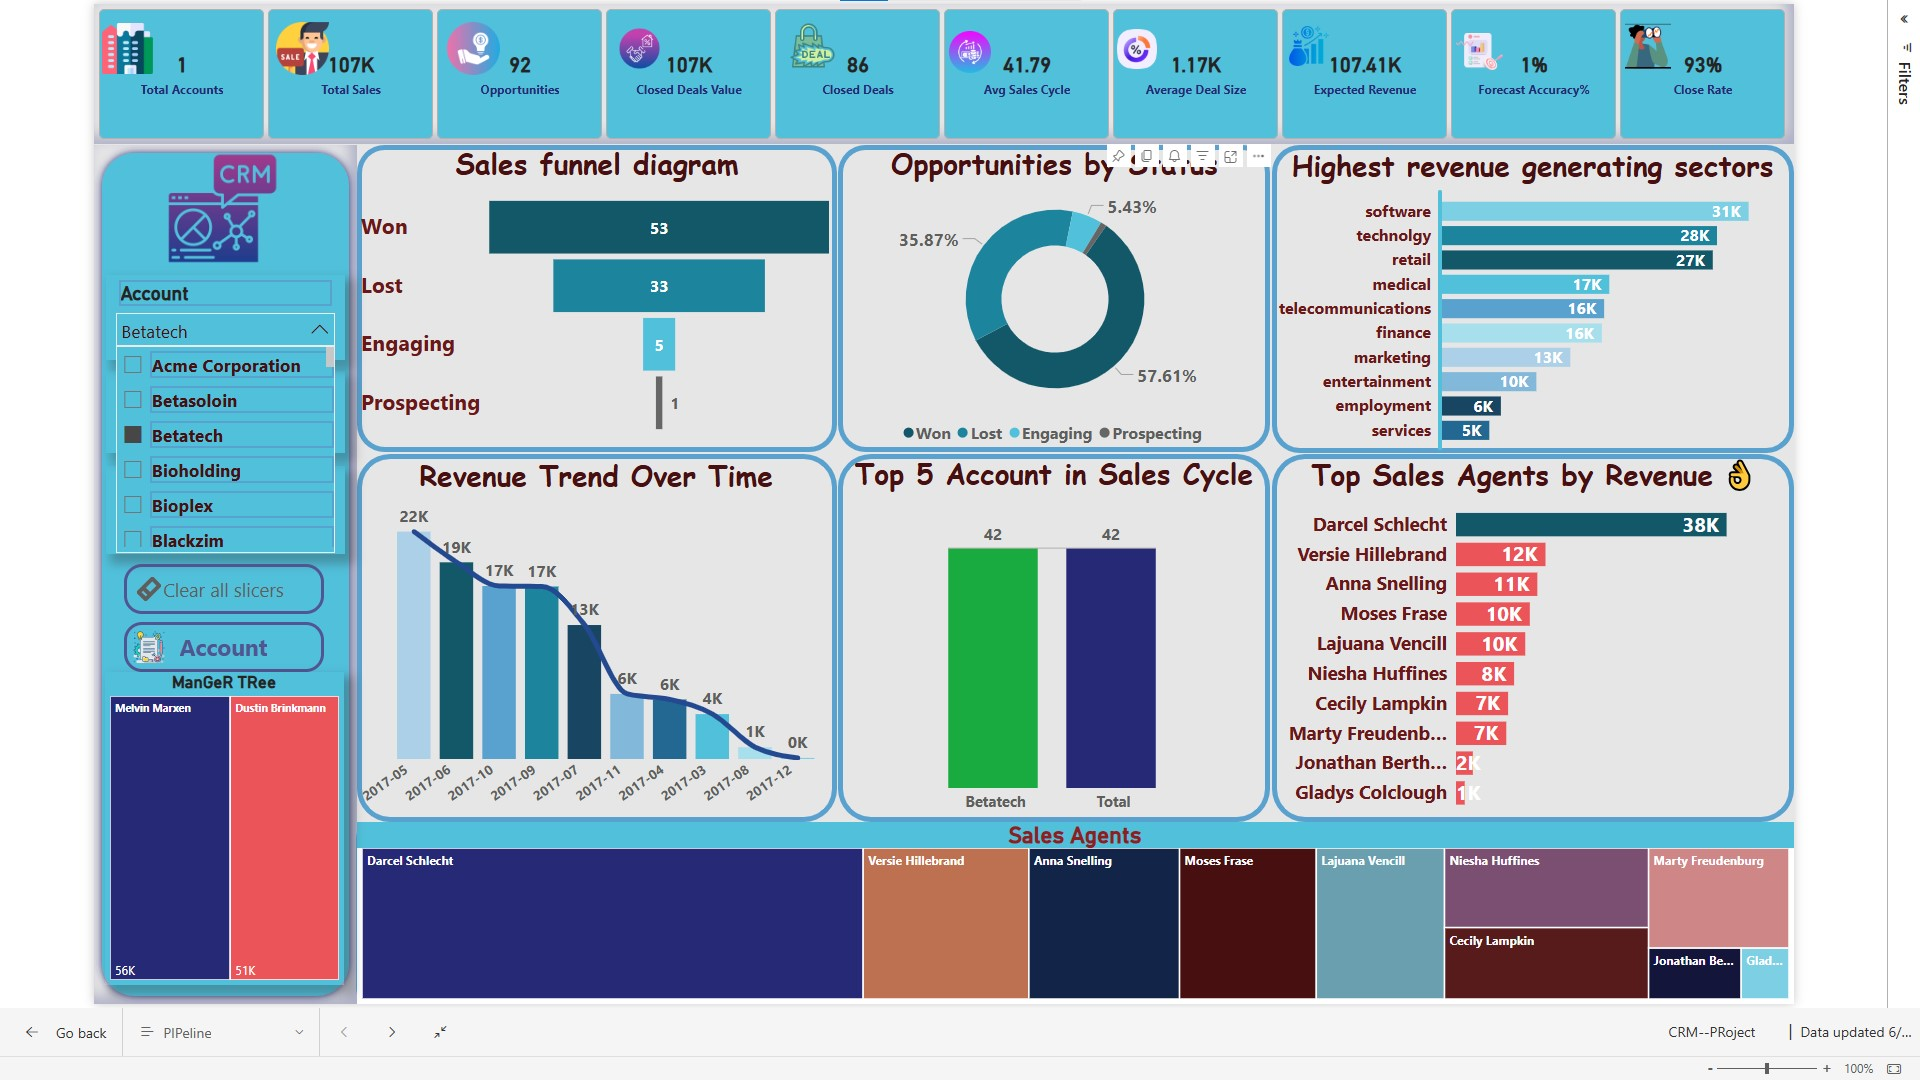

The page's visual inventory and layout, read from the dashboard file:
{"tool":"powerbi","page":{"name":"PIPeline","canvas":[1700,1000],"ordinal":0},"visuals":[{"type":"shape","box":[0,141.5,263.4,858.5],"z":0},{"type":"shape","box":[744.3,140.9,431.6,306.8],"z":1000},{"type":"shape","box":[263.4,450,479.3,368.3],"z":2000},{"type":"shape","box":[262.8,140.9,480.1,306.8],"z":3000},{"type":"shape","box":[743.9,450,432,368.3],"z":4000},{"type":"shape","box":[1178,141.5,522,307.3],"z":5000},{"type":"shape","box":[1178,450,522,368.3],"z":6000},{"type":"shape","box":[264.2,819.2,1435.8,181.2],"z":7000},{"type":"cardVisual","fields":{"Data":["Calendar.Total Accounts","Calendar.Total Sales","Calendar.Total Opportunities","Calendar.Closed Deals Value","Calendar.Closed Deals","Calendar.Avg Sales Cycle","Calendar.Average Deal Size","Calendar.Expected Revenue","Calendar.Forecast Accuracy %","Calendar.Close Rate"]},"box":[0,0,1700,140.2],"z":8000},{"type":"funnel","title":"Sales funnel diagram","fields":{"Category":["sales_pipeline.Deal Stage"],"Y":["CountNonNull(sales_pipeline.Opportunity Id)"]},"box":[262.3,138.9,482.4,309.1],"z":9000},{"type":"barChart","title":"Highest revenue generating sectors","fields":{"Y":["Subsidiary Of.Total Revenue by Sector"],"Category":["Subsidiary Of.Sector"]},"box":[1178,141.5,522,309.8],"z":10000},{"type":"donutChart","title":"Opportunities by Status","fields":{"Category":["sales_pipeline.Deal Stage"],"Y":["CountNonNull(sales_pipeline.Opportunity Id)"]},"box":[743.9,139,434.1,309.8],"z":11000},{"type":"clusteredBarChart","title":"Top Sales Agents by Revenue 👌 ","fields":{"Category":["sales_pipeline.Sales Agent"],"Y":["Sum(sales_pipeline.Close Value)"]},"box":[1178,450,522,368.3],"z":12000},{"type":"lineStackedColumnComboChart","title":"Revenue Trend Over Time","fields":{"Category":["sales_pipeline.Close-Month"],"Y":["Calendar.Closed Deals Value"],"Y2":["Calendar.Total Sales"]},"box":[262.3,451.1,480.8,366.9],"z":13000},{"type":"waterfallChart","title":"Top 5 Account in Sales Cycle","fields":{"Category":["sales_pipeline.Account"],"Y":["Calendar.Avg Sales Cycle"]},"box":[742.7,448.8,435.4,369.5],"z":14000},{"type":"shape","box":[262.3,818,1437.7,182.6],"z":15000},{"type":"treemap","title":"Sales Agents","fields":{"Group":["sales_pipeline.Sales Agent"],"Values":["Sum(sales_pipeline.Close Value)"]},"box":[262.8,817.7,1437.2,182],"z":16000},{"type":"slicer","fields":{"Values":["sales_pipeline.Account"]},"box":[12.2,271.1,239.3,85.1],"z":17000},{"type":"slicer","fields":{"Values":["sales_pipeline.Product"]},"box":[12.2,366.6,239.3,82.2],"z":18000},{"type":"slicer","fields":{"Values":["Subsidiary Of.Office Location"]},"box":[12.2,462,239.3,88.1],"z":19000},{"type":"actionButton","box":[30.5,559.5,200,50],"z":21000},{"type":"actionButton","box":[30.5,618.1,200,50],"z":22000},{"type":"treemap","title":"ManGeR TRee","fields":{"Group":["sales_teams.Manager"],"Values":["Sum(sales_pipeline.Close Value)"]},"box":[10.7,668,239.6,313.2],"z":23000},{"type":"image","box":[10.4,138,240.3,130.5],"z":23001},{"type":"image","box":[3,3,60.8,81.6],"z":23002},{"type":"image","box":[172.1,13.4,72.7,62.3],"z":23003},{"type":"image","box":[344.2,13.4,71.2,62.3],"z":23004},{"type":"image","box":[510.3,19.3,71.2,50.4],"z":23005},{"type":"image","box":[676.4,13.4,86,56.4],"z":23006},{"type":"image","box":[850,19.3,51.9,56.4],"z":23007},{"type":"image","box":[1017.6,13.4,50.4,62.3],"z":23008},{"type":"image","box":[1189.7,13.4,50.4,56.4],"z":23009},{"type":"image","box":[1357.3,19.3,56.4,56.4],"z":23010},{"type":"image","box":[1525.8,12.8,56.4,57.6],"z":23011}]}

Visuals, with their boxes on the page's 1700x1000 design canvas (x1, y1, x2, y2). These are canvas units, not pixel positions in the 1920x1080 screenshot, which may show the page scaled, cropped or inside an application window:
shape: box(0, 142, 263, 1000)
shape: box(744, 141, 1176, 448)
shape: box(263, 450, 743, 818)
shape: box(263, 141, 743, 448)
shape: box(744, 450, 1176, 818)
shape: box(1178, 142, 1700, 449)
shape: box(1178, 450, 1700, 818)
shape: box(264, 819, 1700, 1000)
cardVisual - Calendar.Total Accounts x Calendar.Total Sales: box(0, 0, 1700, 140)
"Sales funnel diagram" funnel: box(262, 139, 745, 448)
"Highest revenue generating sectors" barChart: box(1178, 142, 1700, 451)
"Opportunities by Status" donutChart: box(744, 139, 1178, 449)
"Top Sales Agents by Revenue 👌 " clusteredBarChart: box(1178, 450, 1700, 818)
"Revenue Trend Over Time" lineStackedColumnComboChart: box(262, 451, 743, 818)
"Top 5 Account in Sales Cycle" waterfallChart: box(743, 449, 1178, 818)
shape: box(262, 818, 1700, 1001)
"Sales Agents" treemap: box(263, 818, 1700, 1000)
slicer - sales_pipeline.Account: box(12, 271, 252, 356)
slicer - sales_pipeline.Product: box(12, 367, 252, 449)
slicer - Subsidiary Of.Office Location: box(12, 462, 252, 550)
actionButton: box(30, 560, 230, 610)
actionButton: box(30, 618, 230, 668)
"ManGeR TRee" treemap: box(11, 668, 250, 981)
image: box(10, 138, 251, 268)
image: box(3, 3, 64, 85)
image: box(172, 13, 245, 76)
image: box(344, 13, 415, 76)
image: box(510, 19, 582, 70)
image: box(676, 13, 762, 70)
image: box(850, 19, 902, 76)
image: box(1018, 13, 1068, 76)
image: box(1190, 13, 1240, 70)
image: box(1357, 19, 1414, 76)
image: box(1526, 13, 1582, 70)
